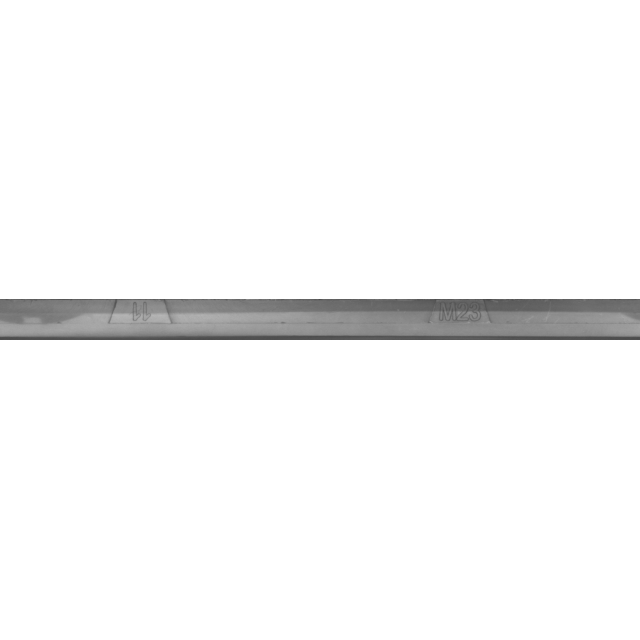mohao: (363, 270, 563, 370)
xuehao: (41, 270, 241, 370)
